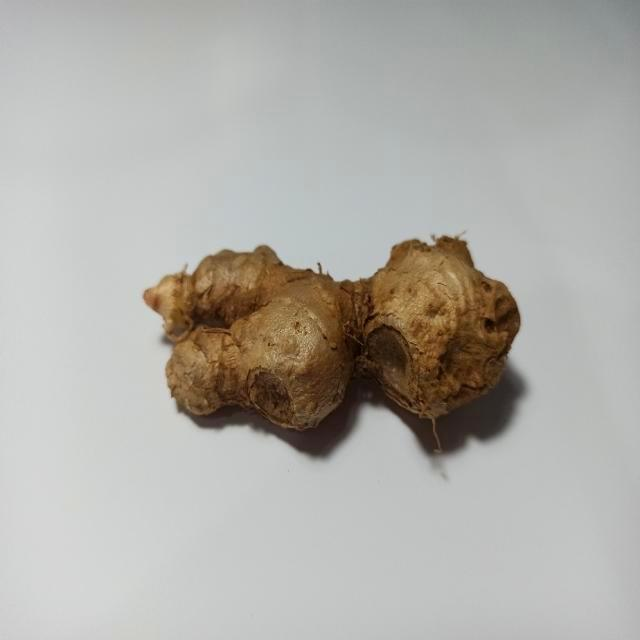ginger: (152, 236, 521, 436)
